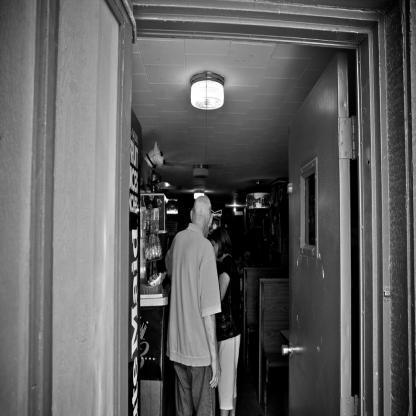door: (288, 129, 340, 416)
knob: (280, 342, 292, 358)
